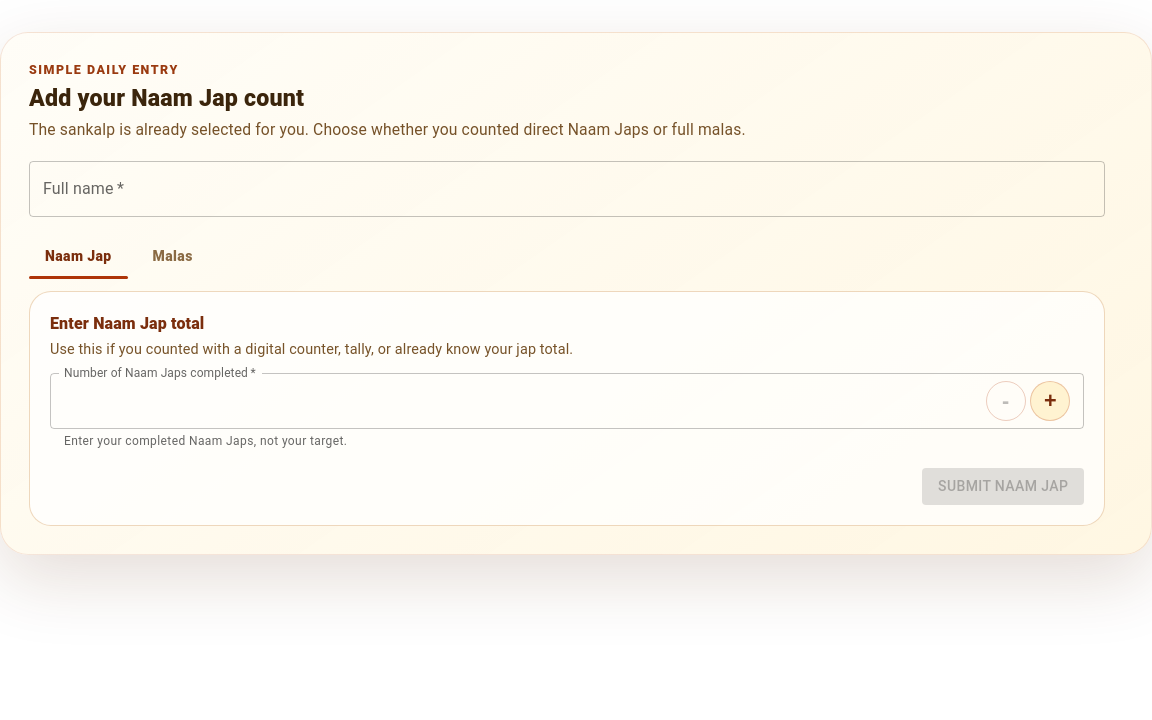
Test: AddNiyamProgressForm › keeps Naam Jap submit disabled until a positive number is entered
The image size is (1152, 720).
Check: the button with aria-label "submit Naam Jap total" is disabled, box 922,468 -> 1084,505
In the number field labelled "Number of Naam Japs completed *": (514, 401) 50,373 -> 978,429, type "12"
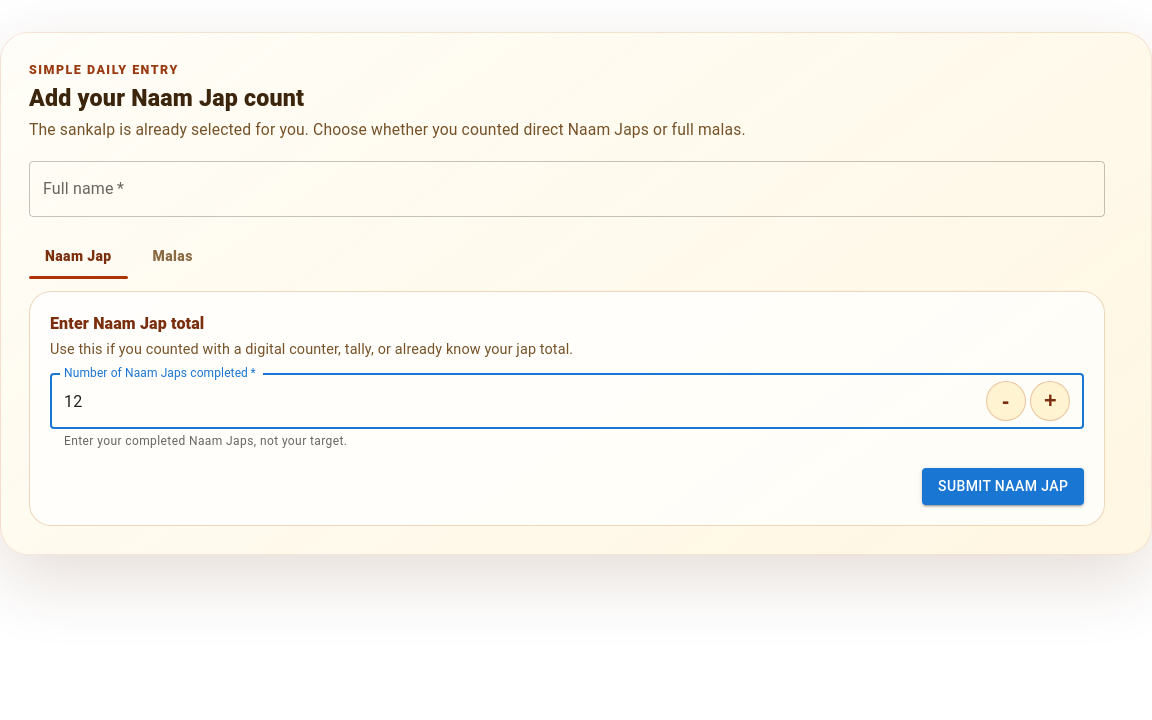
Check: the button with aria-label "submit Naam Jap total" is enabled, box 922,468 -> 1084,505
